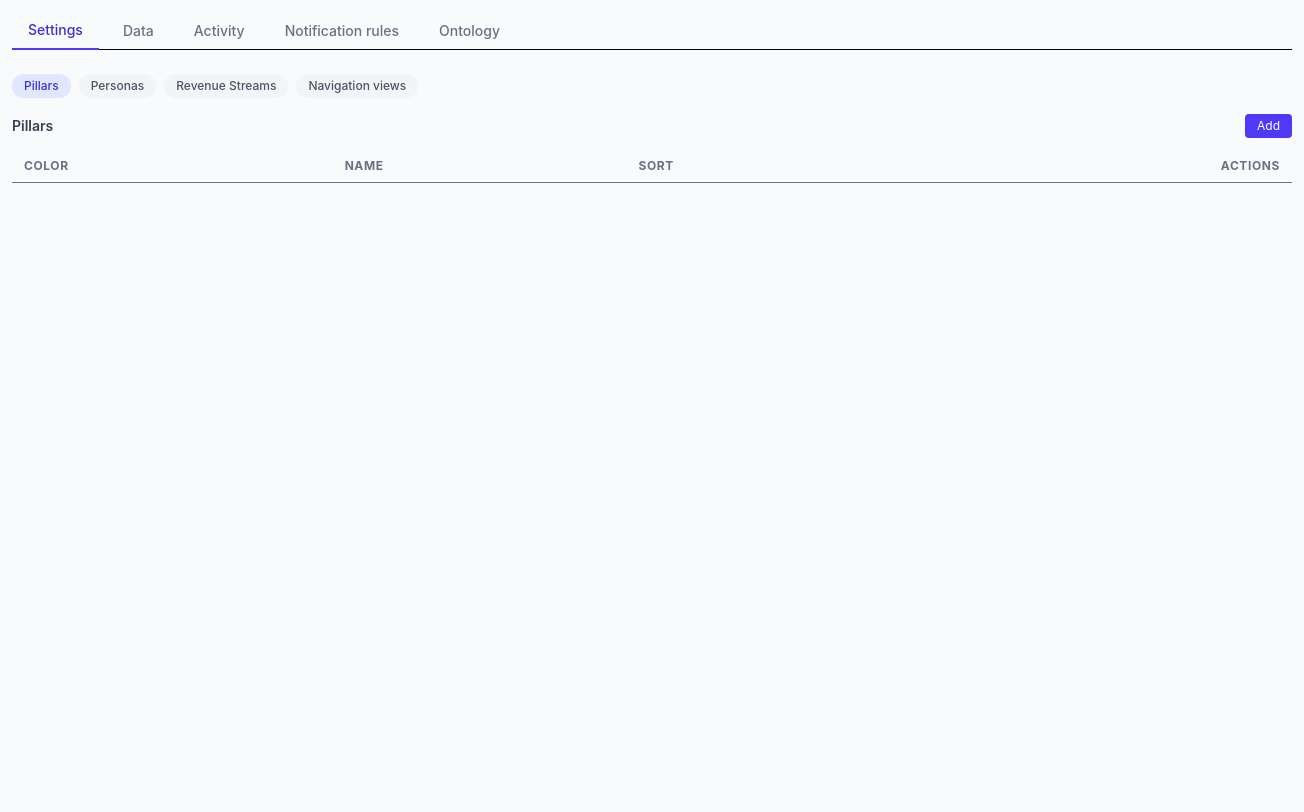
Test: AdminPage modes › mode settings shows inner tabs; switching to Data shows export UI (not users list)
This screenshot has width=1304, height=812.
Expected: the button "Settings" is shown, left=12, top=12, right=99, bottom=50
Expected: the button "Activity" is shown, left=178, top=12, right=261, bottom=50
Click the button "Data" at (138, 31), box left=107, top=12, right=170, bottom=50
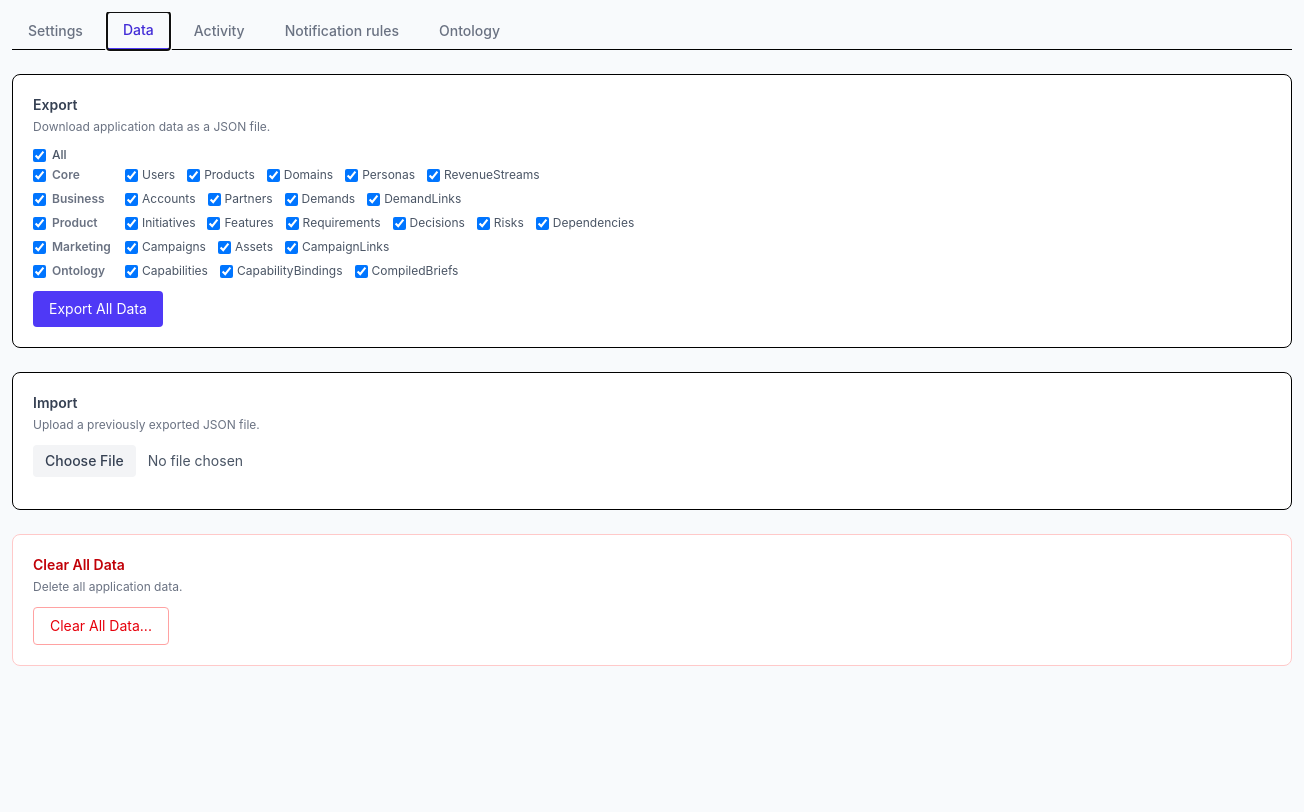
Expected: the heading "Export" is shown, left=33, top=96, right=78, bottom=113
